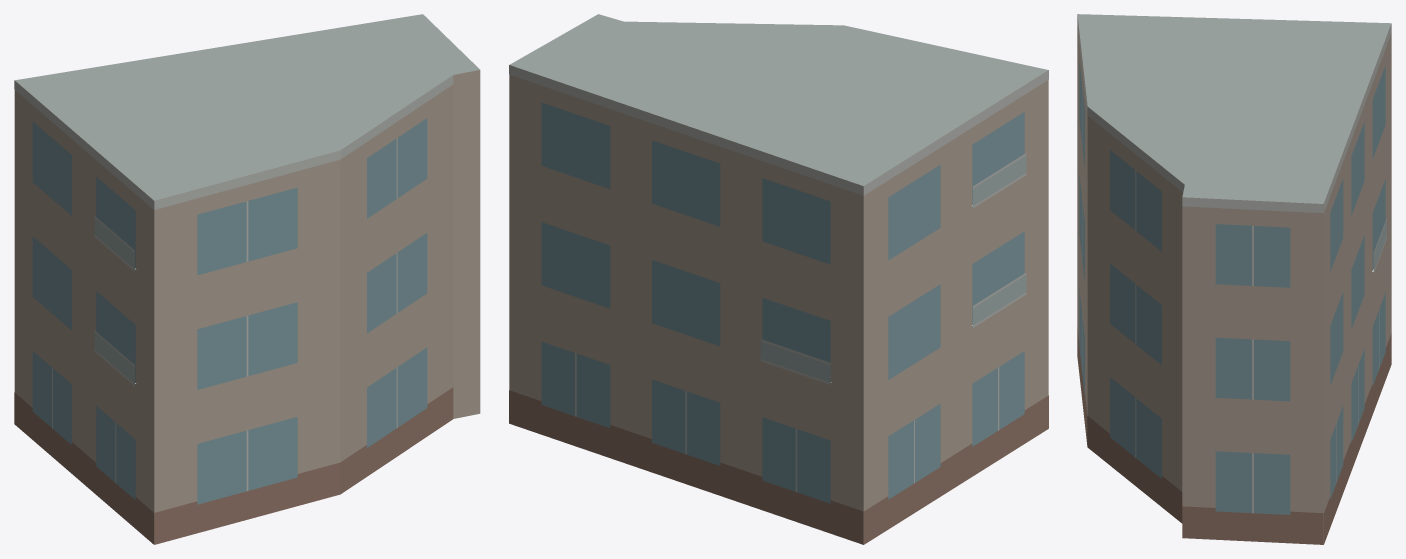
File: survey-upis-32898307.glb
3 renders of one model, left to right at view 1: azimuth 30°, elevation 25°; view 2: azimuth 150°, elevation 25°; view 3: azimuth 270°, elevation 25°, orthographic. The views are drawn at different scales.
Visible parts, largest first — view 1: survey-upis-32898307.tmp; view 2: survey-upis-32898307.tmp; view 3: survey-upis-32898307.tmp.
Part boxes in pixels (<box>): survey-upis-32898307.tmp: <box>14,14,480,544</box>; survey-upis-32898307.tmp: <box>509,14,1048,544</box>; survey-upis-32898307.tmp: <box>1077,14,1391,544</box>.
Bounding box in the file's own units: 10.95 × 9.15 × 7.66.
